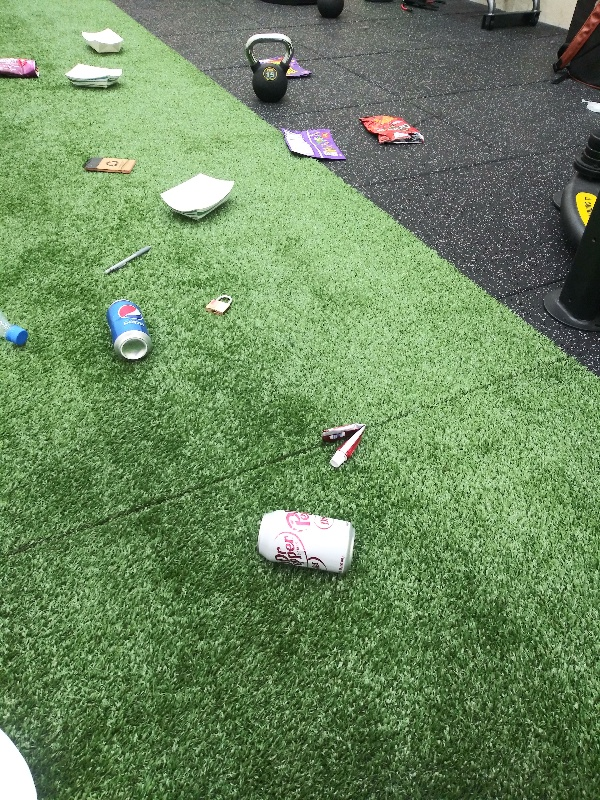bag: (277, 120, 350, 163), (356, 108, 428, 150), (261, 49, 319, 84)
bottle: (1, 312, 39, 352)
can: (256, 506, 358, 576), (102, 295, 155, 363), (1, 54, 41, 83)
plate: (154, 169, 239, 223), (61, 60, 125, 89), (79, 23, 128, 55)
